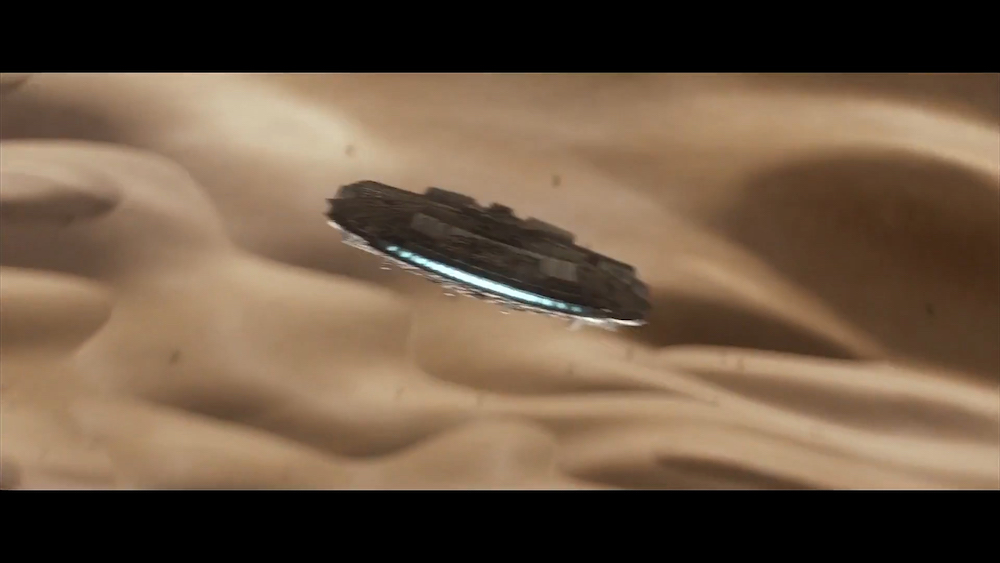Millennium Falcon: (323, 178, 656, 336)
